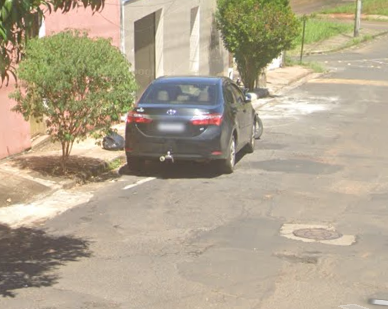car: (122, 67, 255, 178)
